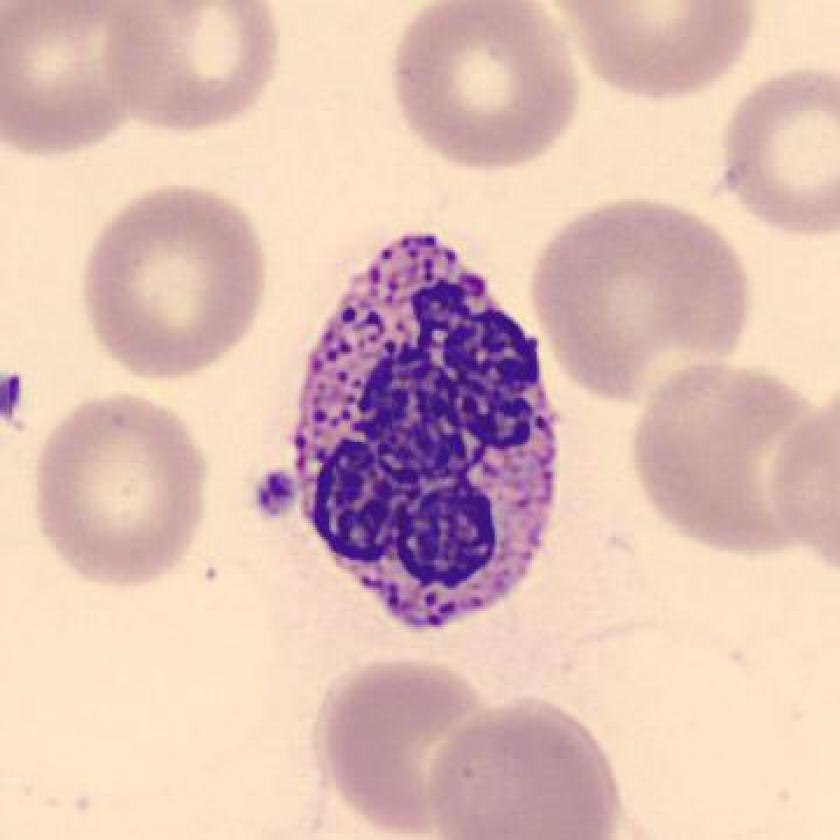basophil: (291, 219, 571, 635)
